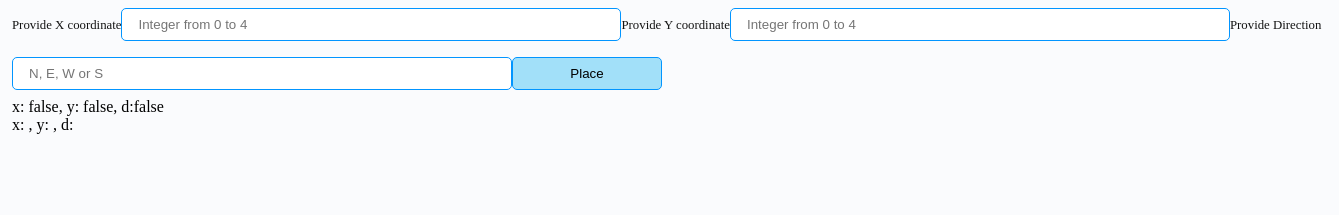
Test case: Placement form validation should work
Expected: the text with test id "errorHookTest" reads "x: false, y: false, d:false", [12,98,164,115]
Type "10" into the number field with test id "xDataInput" at (372,24), box [122,8,622,41]
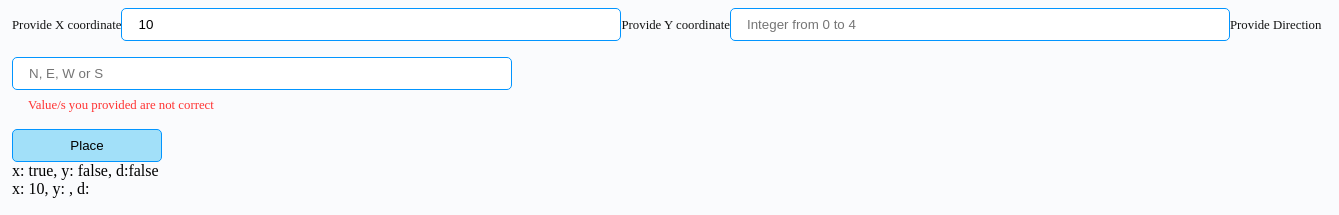
Type "10" into the number field with test id "yDataInput" at (980,24), box [730,8,1230,41]
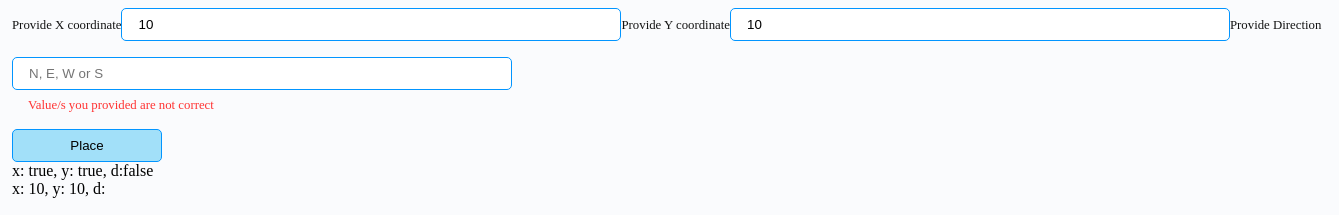
Type "c" into the field with test id "dirDataInput" at (262,74), box [12,57,512,90]
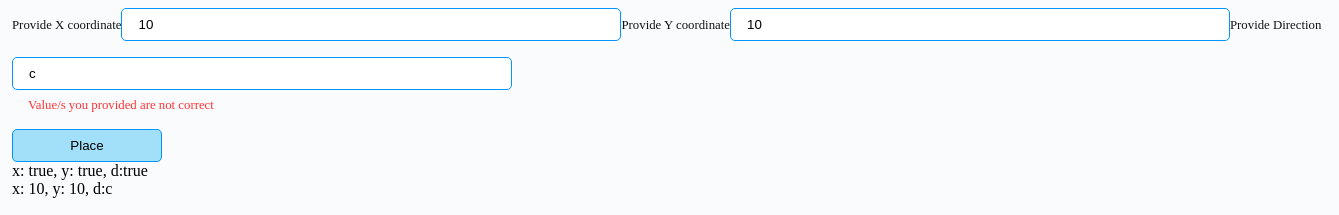
Expected: the text "Value/s you provided are not correct" is shown, [28,98,214,112]
Expected: the text with test id "errorHookTest" reads "x: true, y: true, d:true", [12,162,148,179]
Replace the text in the number field with test id "xDataInput" with "3" at (372,24), box [122,8,622,41]
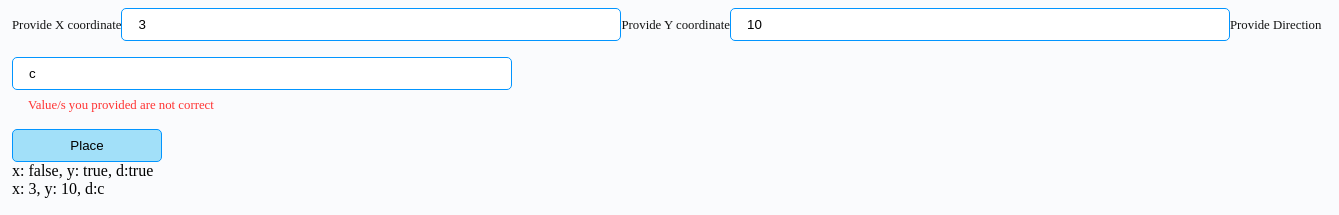
Replace the text in the number field with test id "yDataInput" with "3" at (980,24), box [730,8,1230,41]
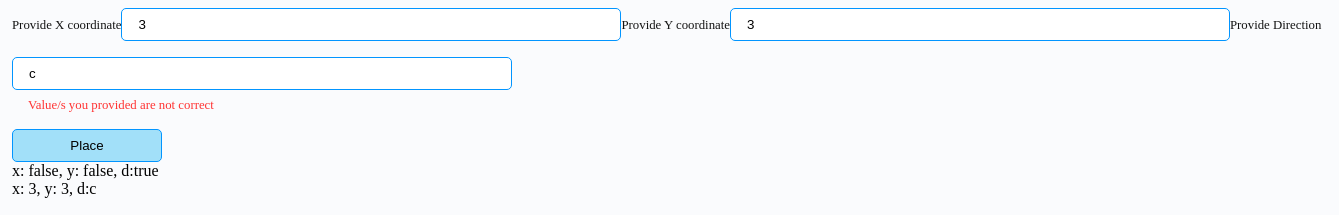
Replace the text in the field with test id "dirDataInput" with "N" at (262,74), box [12,57,512,90]
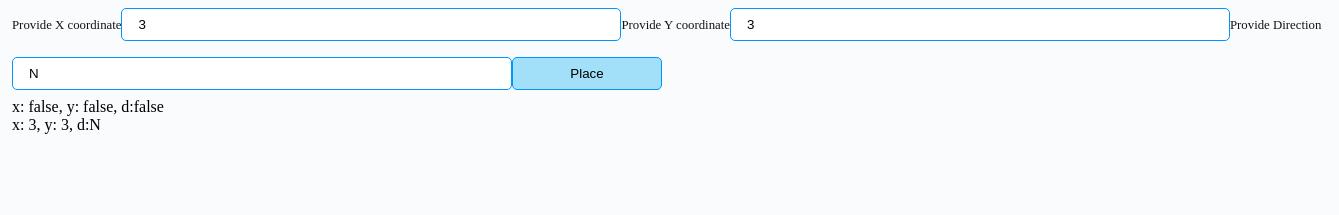
Expected: the text with test id "errorHookTest" reads "x: false, y: false, d:false", [12,98,164,115]
